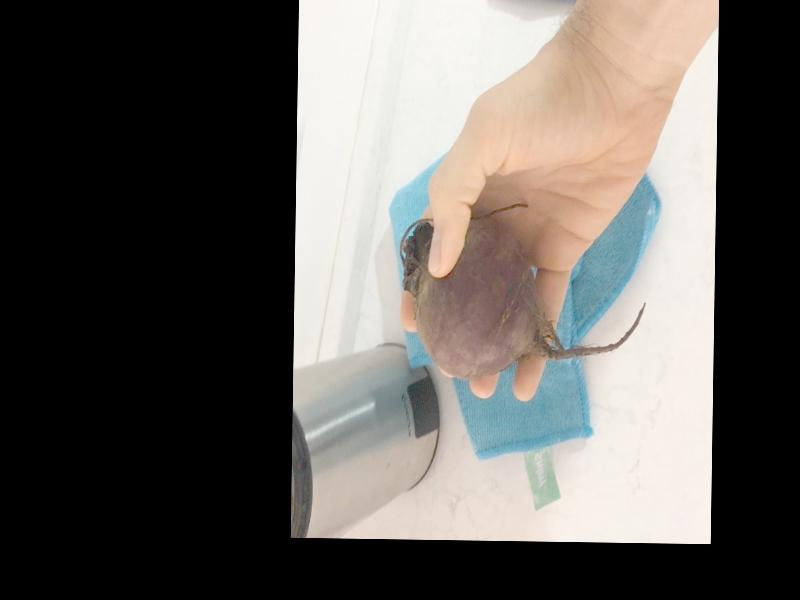Beet: (398, 202, 647, 381)
